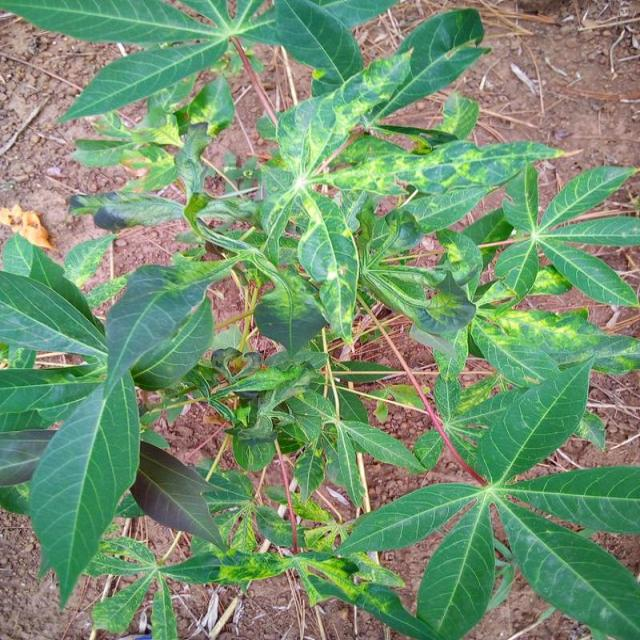cassava leaf: (0, 1, 638, 637), (26, 368, 141, 609)
